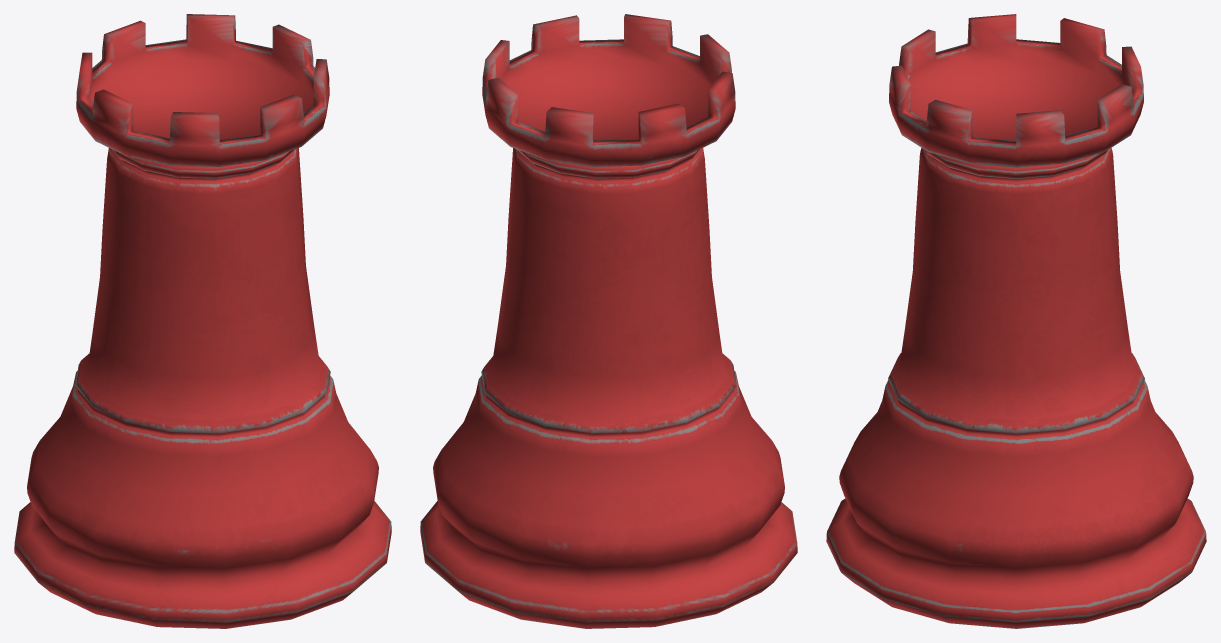
The model's file is rook.glb.
3 renders of one model, left to right at view 1: azimuth 30°, elevation 25°; view 2: azimuth 150°, elevation 25°; view 3: azimuth 270°, elevation 25°, orthographic.
Visible parts, largest first — view 1: rook.006; view 2: rook.006; view 3: rook.006.
Part boxes in pixels (left/top/right/bottom): rook.006: left=14, top=14, right=391, bottom=628; rook.006: left=420, top=14, right=797, bottom=628; rook.006: left=826, top=14, right=1206, bottom=628.
Size of the model in its own units: 1.4 by 2.05 by 1.4.
1 material, 1 textured.
